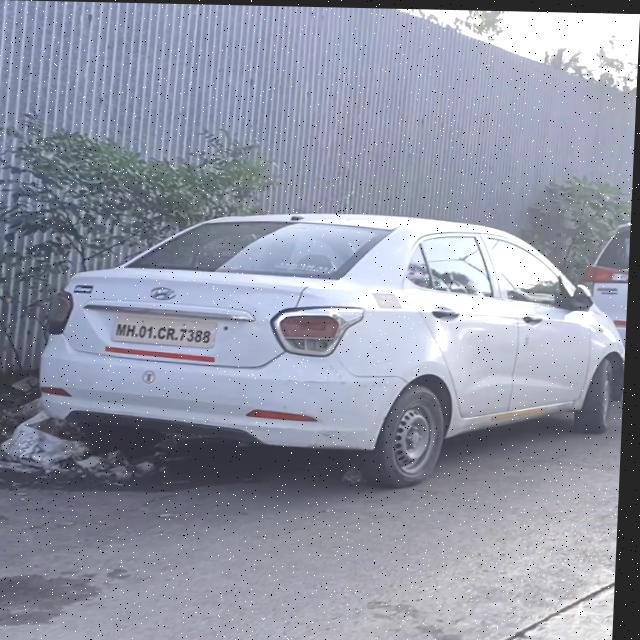plate: (109, 314, 221, 349)
